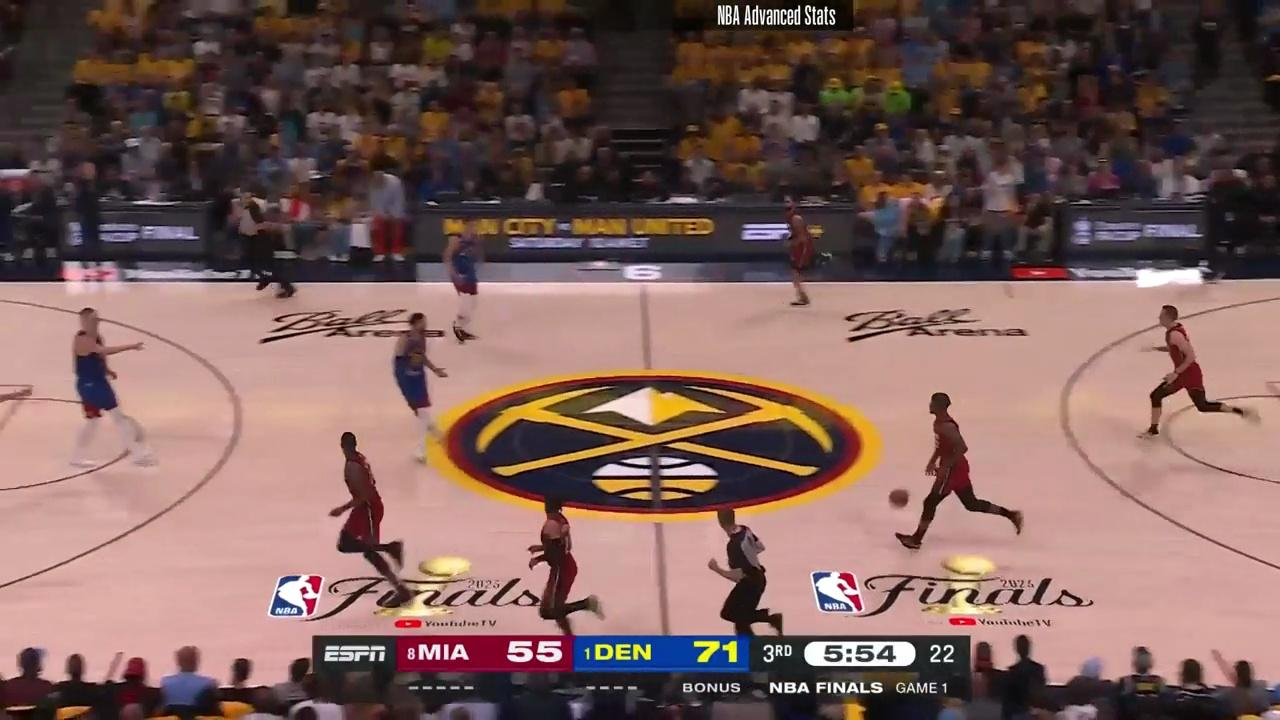Ball: (888, 486, 910, 507)
Person: (902, 387, 1030, 555), (324, 429, 423, 606), (1141, 301, 1258, 443), (67, 303, 146, 470), (523, 482, 601, 641), (767, 193, 837, 313), (390, 311, 453, 438), (440, 214, 494, 342)
Referee: (710, 504, 782, 630), (225, 186, 300, 303)
